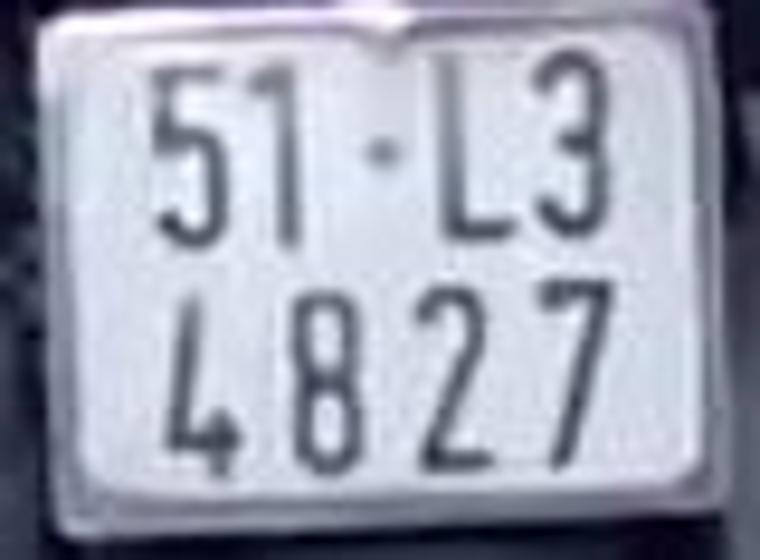-: (352, 139, 398, 163)
1: (243, 64, 314, 243)
2: (419, 283, 494, 471)
3: (535, 51, 612, 238)
4: (164, 298, 243, 474)
5: (149, 66, 229, 255)
7: (534, 277, 615, 468)
8: (283, 288, 365, 481)
L: (429, 55, 516, 236)
